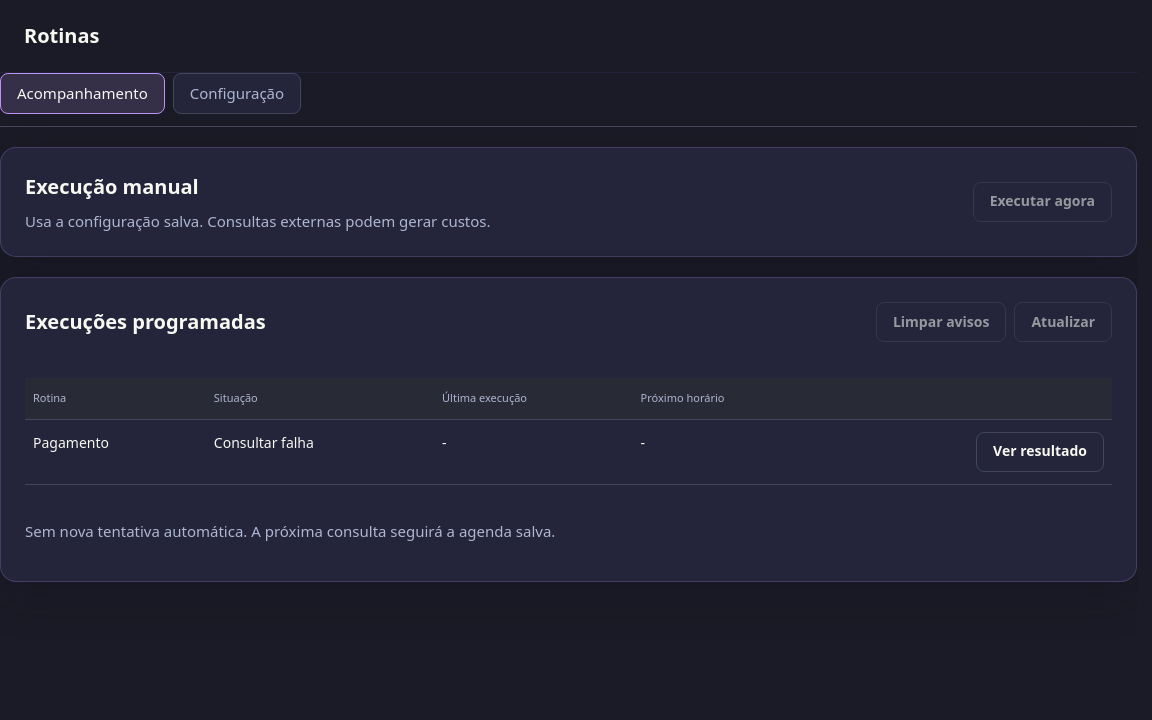
Test case: histórico mostra empresa, competência e diagnóstico sem confundir erro com não pagamento
The image size is (1152, 720).
Click the button with aria-label "Ver resultado de Pagamento" at (1040, 452), box [976,432,1104,472]
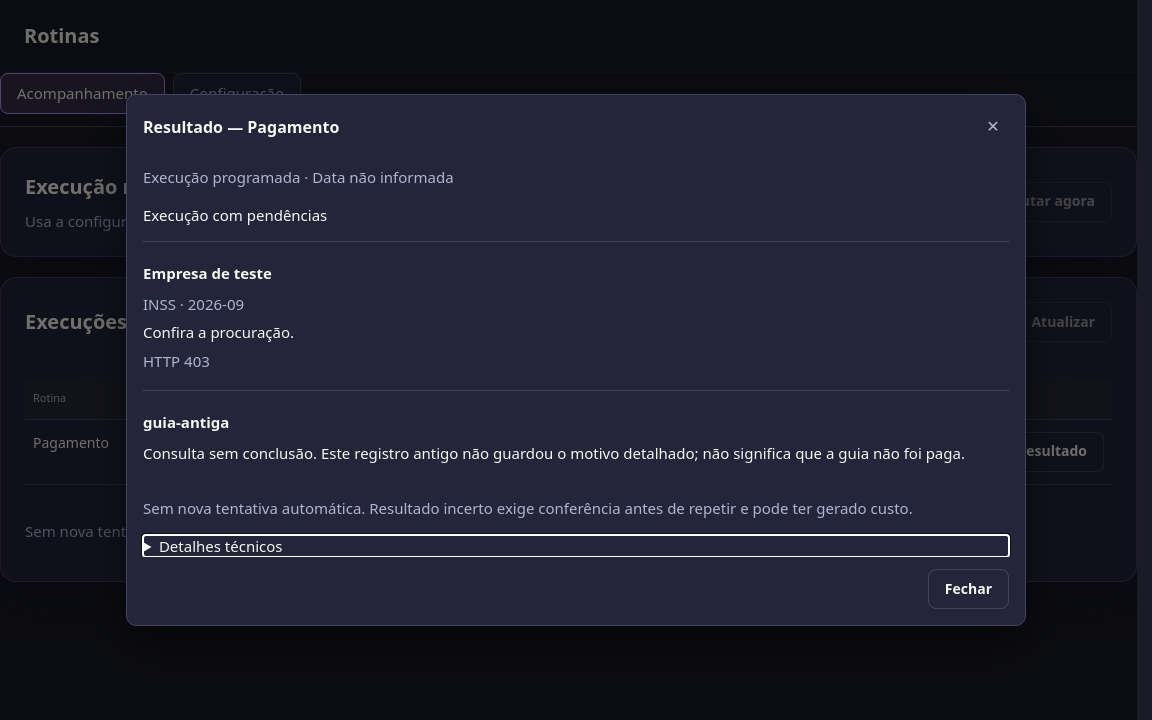
expect the heading "Empresa de teste" is shown: met, box [143,263,272,283]
expect the text "INSS · 2026-09" is shown: met, box [143,294,244,314]
expect the text "HTTP 403" is shown: met, box [143,350,210,370]
